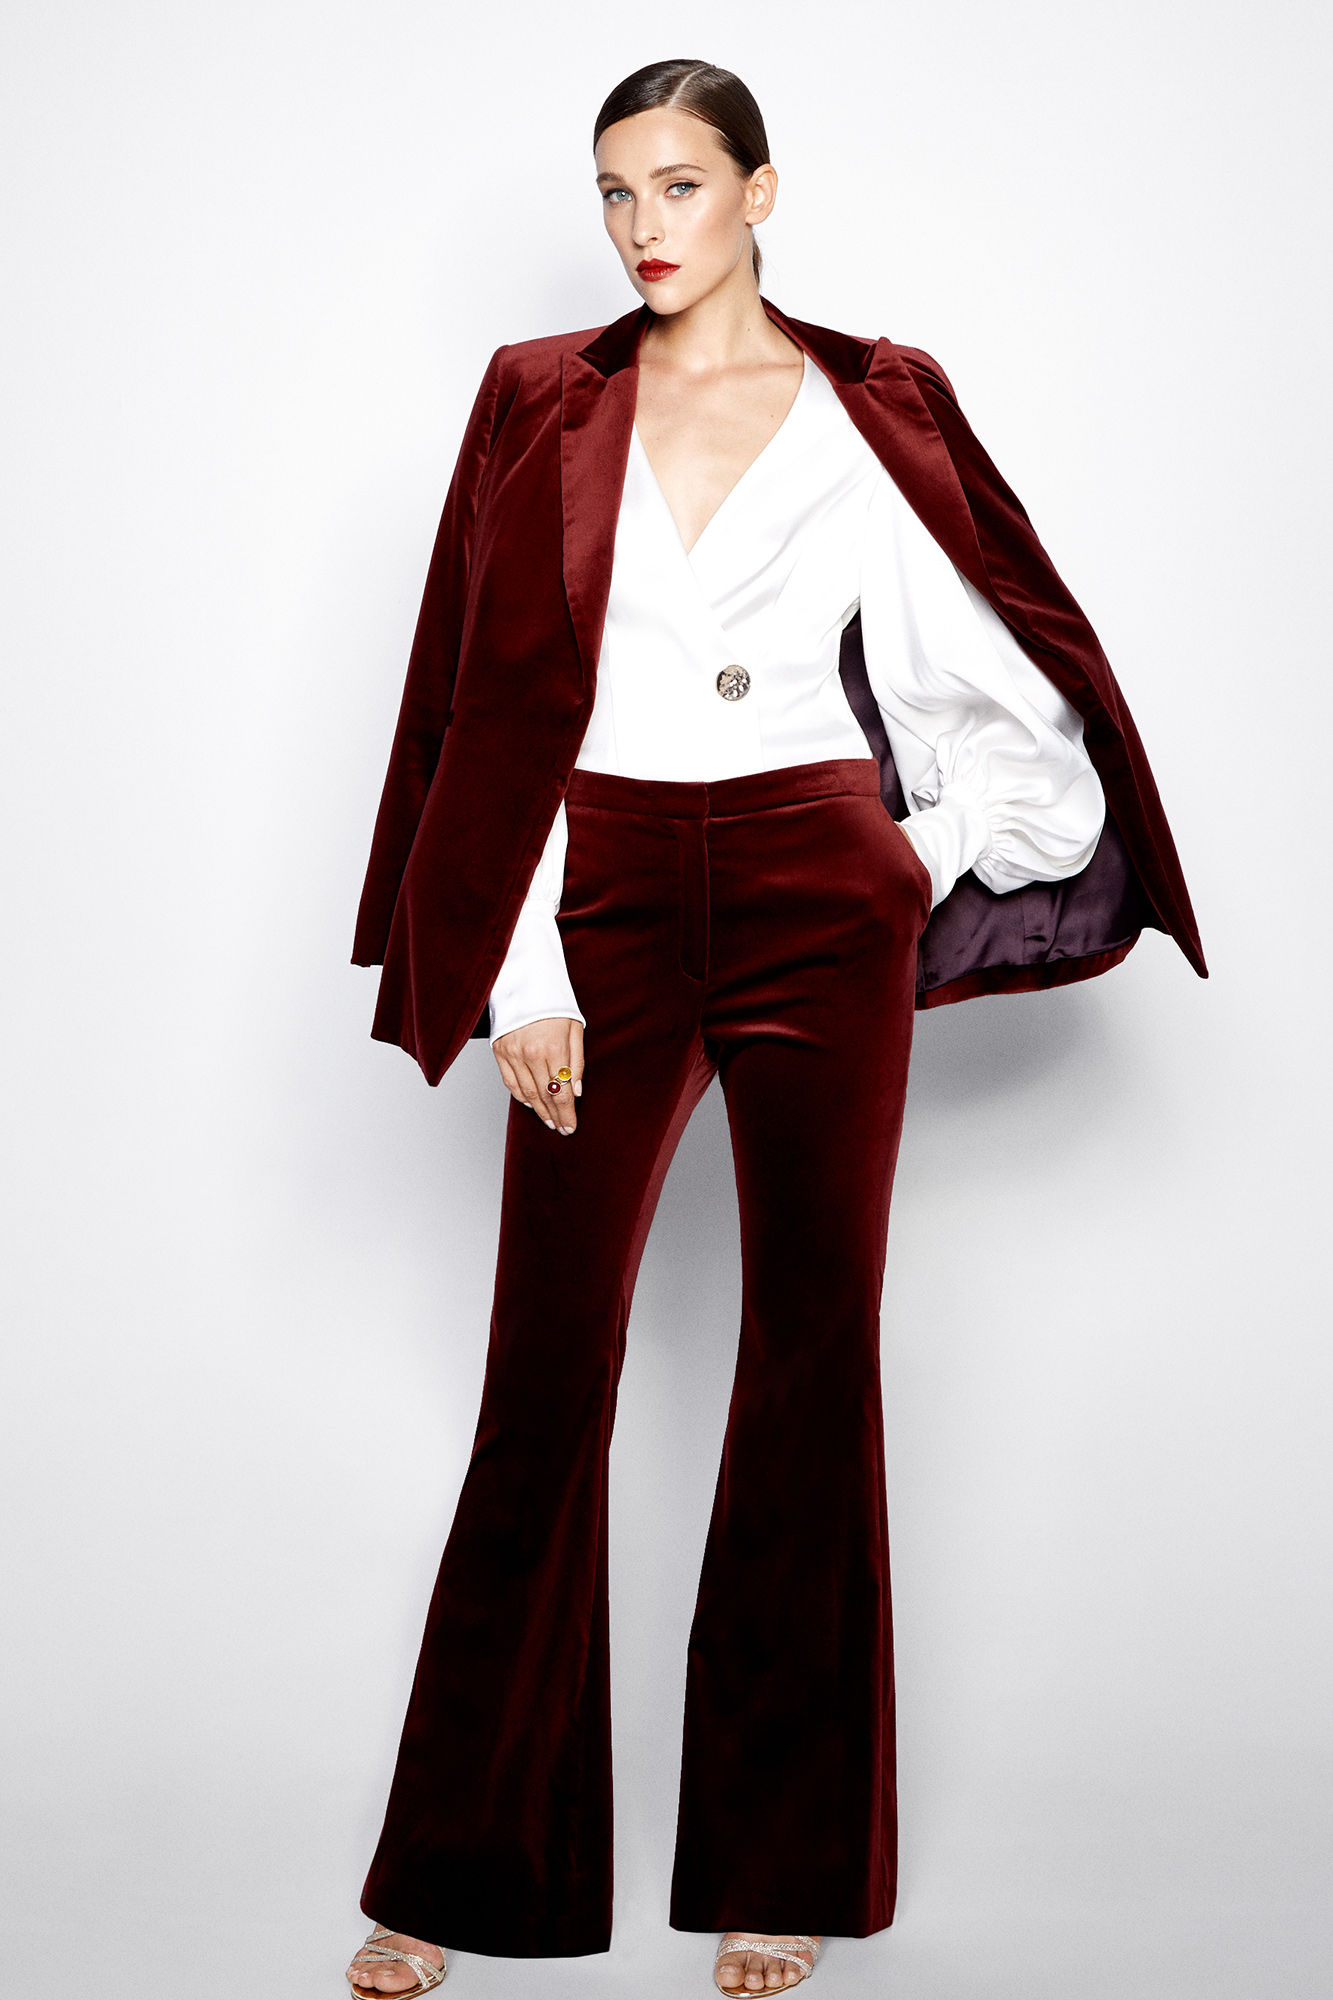feet: (257, 1772, 910, 2000)
